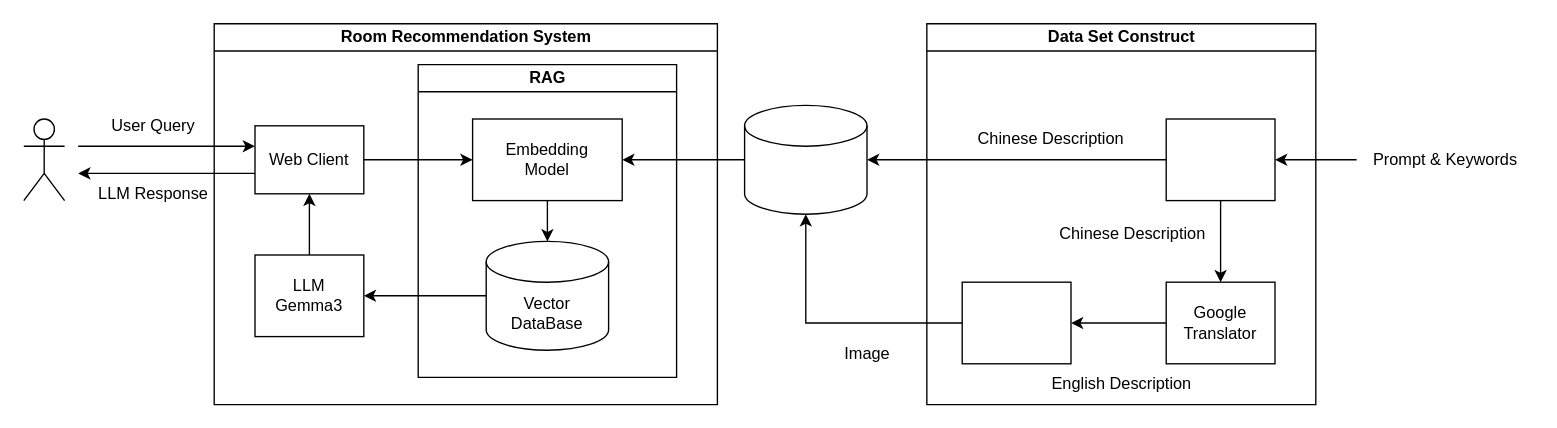
Some shapes in this 1557 by 428 pixel diagram are drawn without their labels. Here are the shapes that lost their labels. From the top down, the centre of each, then its label:
At (x=43, y=159): "User".
At (x=805, y=159): "Room Data Set".
At (x=1220, y=159): "LLM GPT-4o".
At (x=1016, y=322): "Stable Diffusion".
